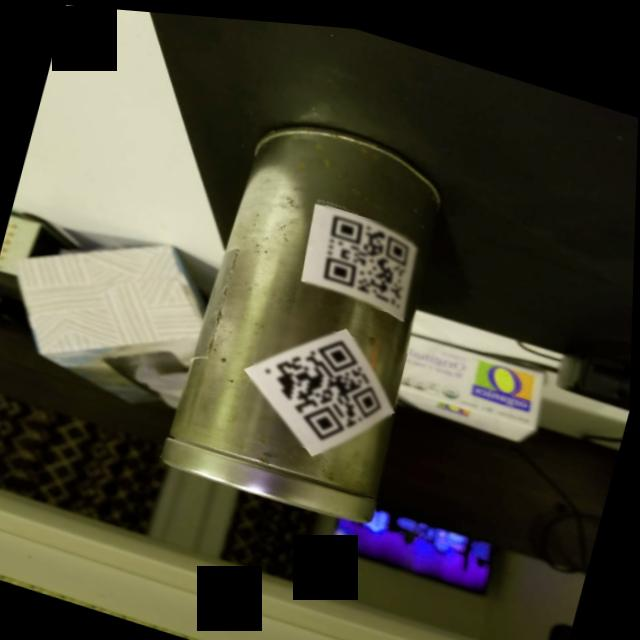QR_CODE: (239, 303, 410, 465), (305, 197, 434, 314)
